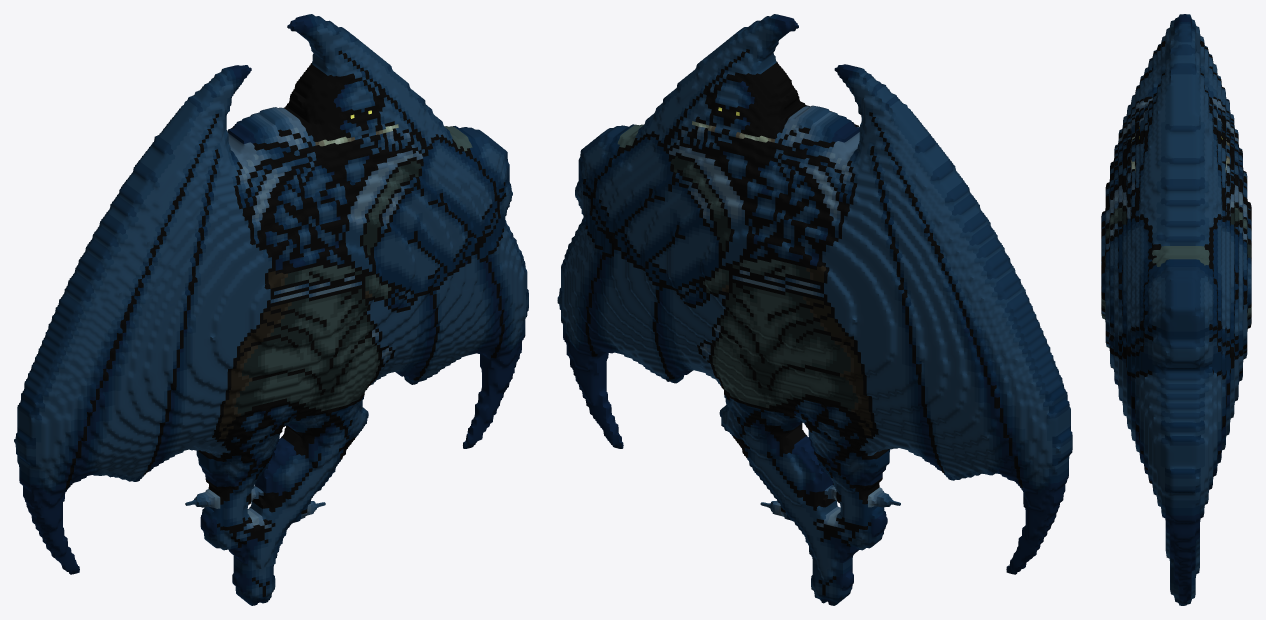
The model's file is Fight_730_2_10.obj.
The picture shows the model from 3 angles, left to right: view 1: azimuth 30°, elevation 25°; view 2: azimuth 150°, elevation 25°; view 3: azimuth 270°, elevation 25°; orthographic projection. The views are drawn at different scales.
Size of the model in its own units: 14.3 by 15.6 by 3.5.
Materials: 1 (1 with a texture image).
